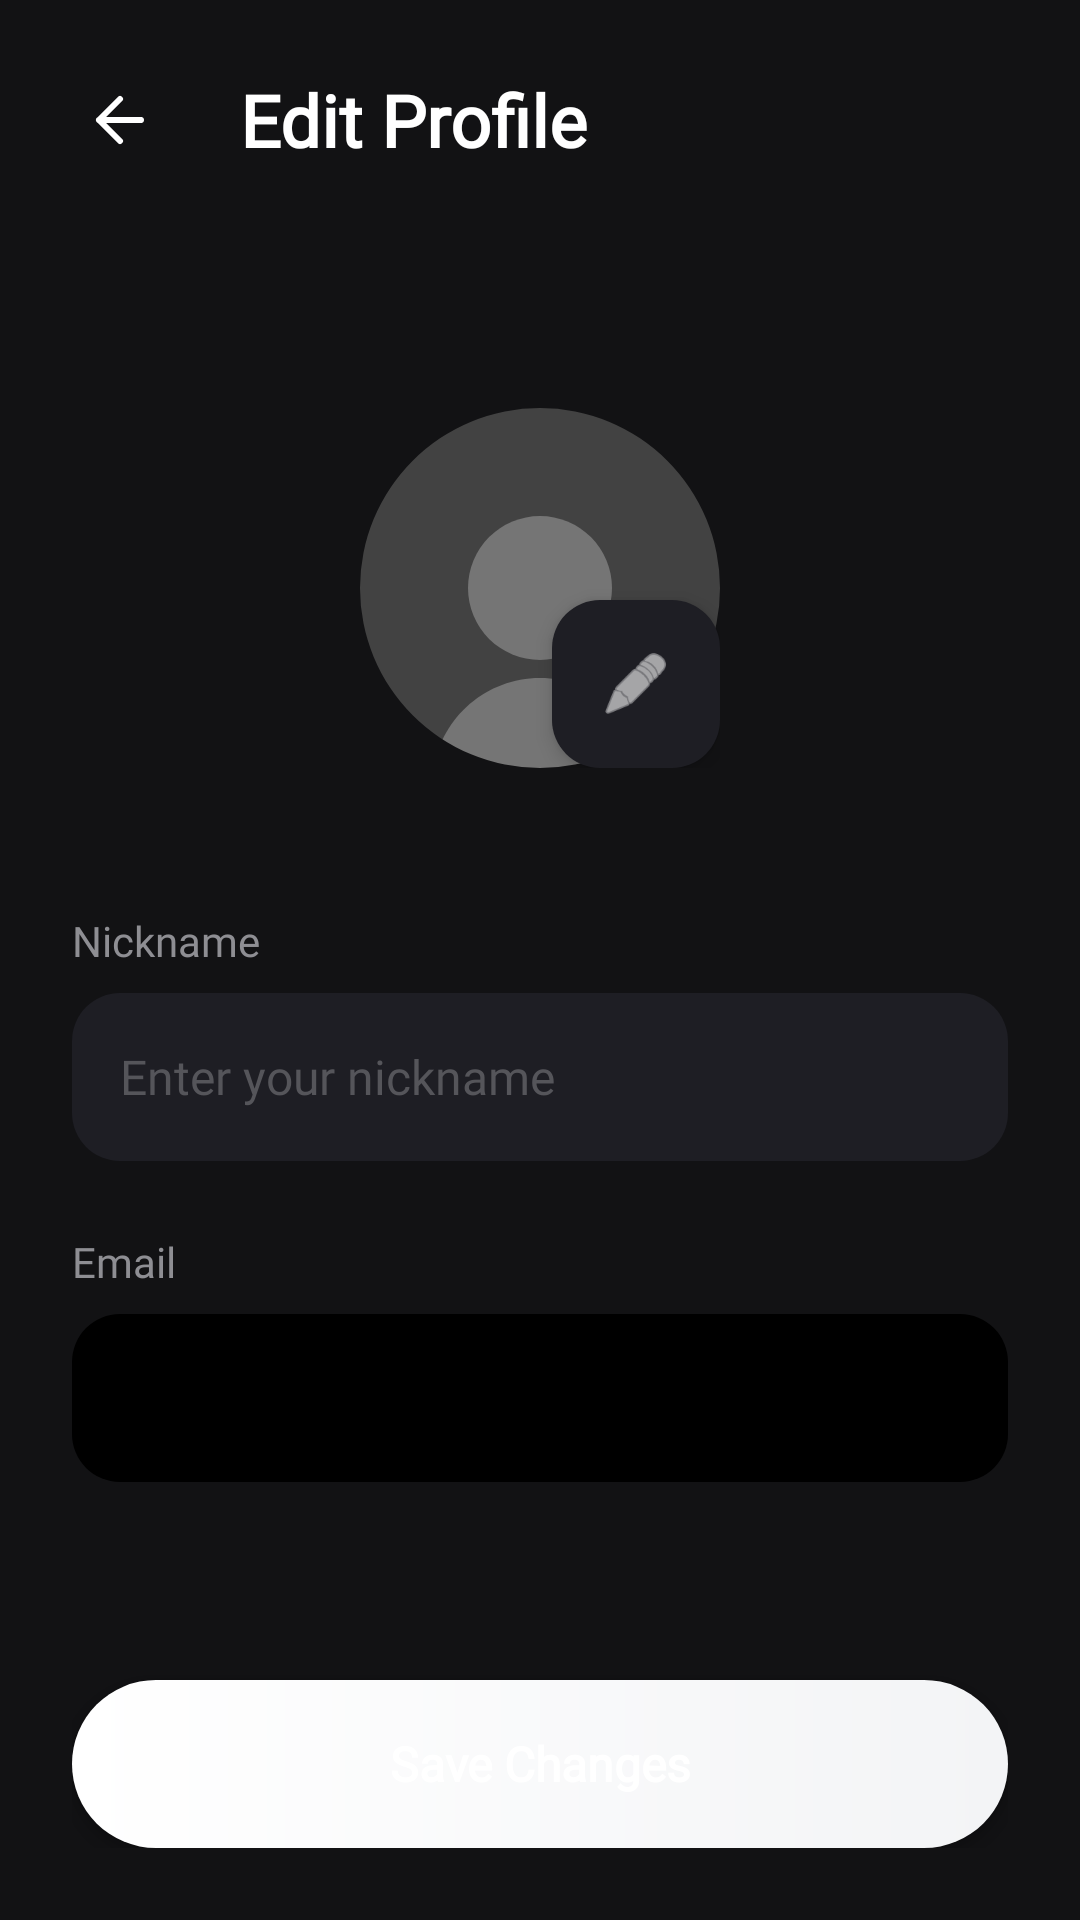

Where to tap for icons on this 1080 x 1920 app screen, as (x=x, y=y):
Back: (x=120, y=120)
edit: (x=636, y=684)
